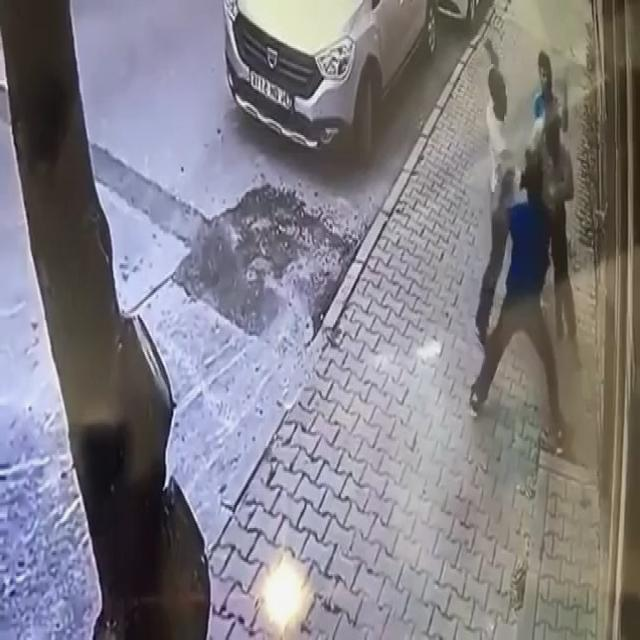fight: (479, 59, 554, 449), (502, 122, 571, 454)
